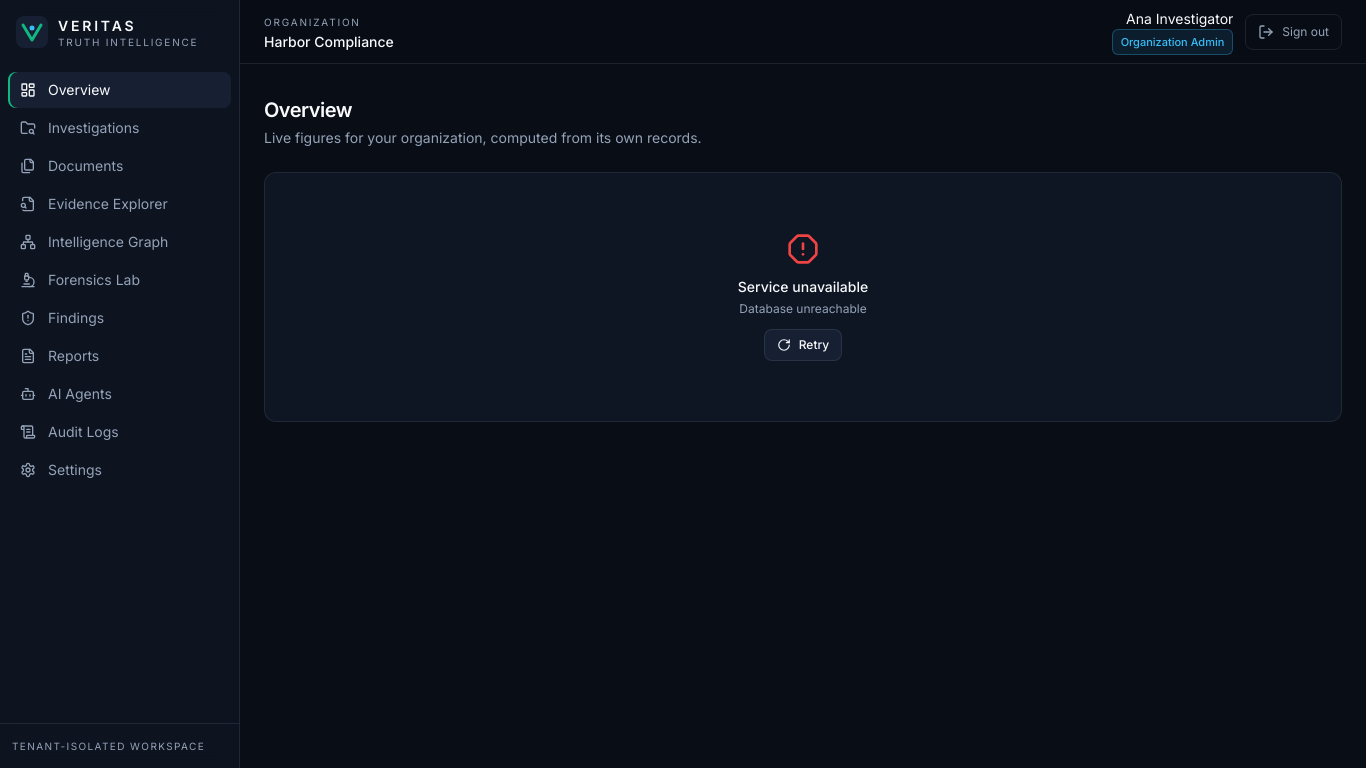
Test: an API error shows the problem detail and Retry refetches
The width and height of the screenshot is (1366, 768).
expect the text "Database unreachable" is shown: met, box [738,301,868,317]
Click the button "Retry": coordinates (803, 345) [764,329,842,361]
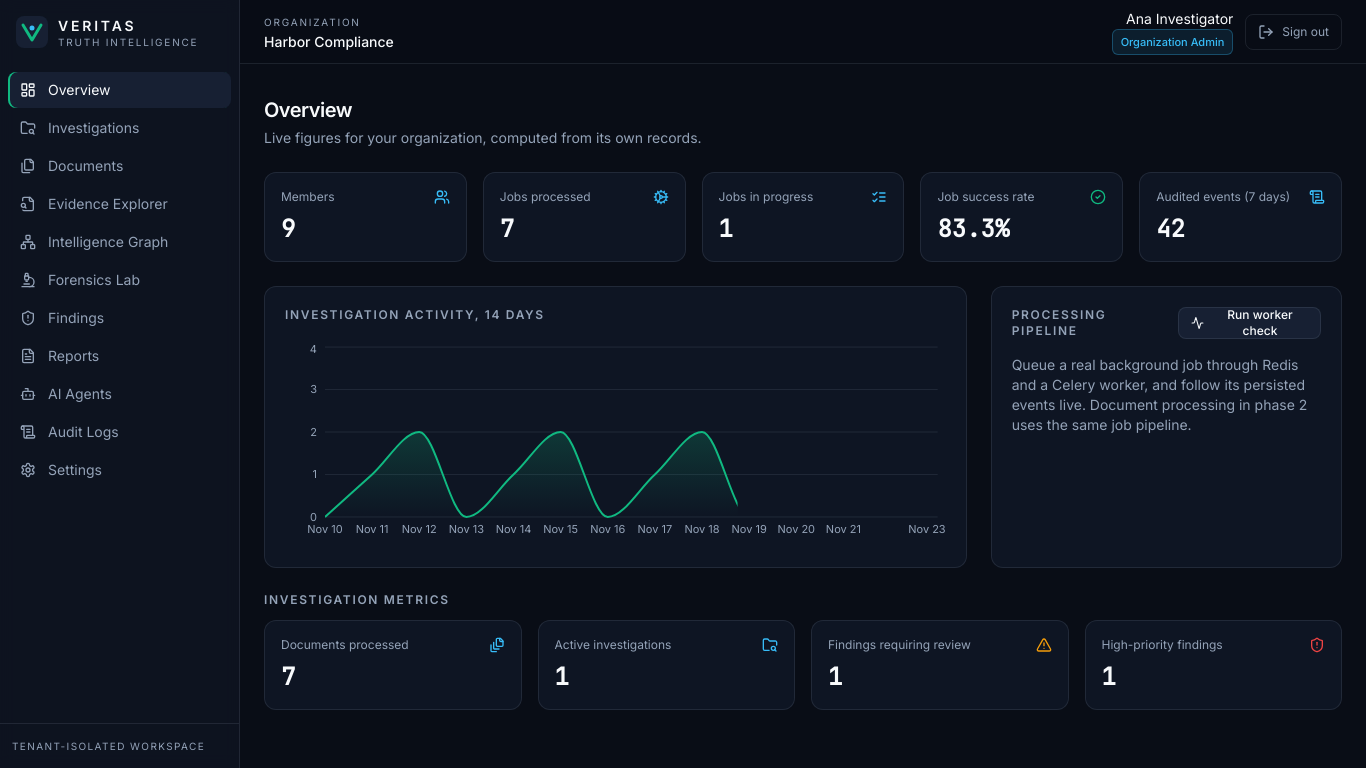
expect the element named "Members: 9" is shown: met, box [264,172,467,262]
